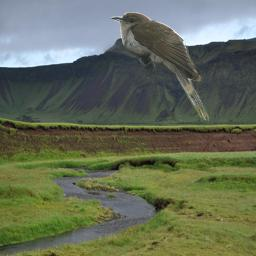Cuckoo: (111, 12, 209, 124)
